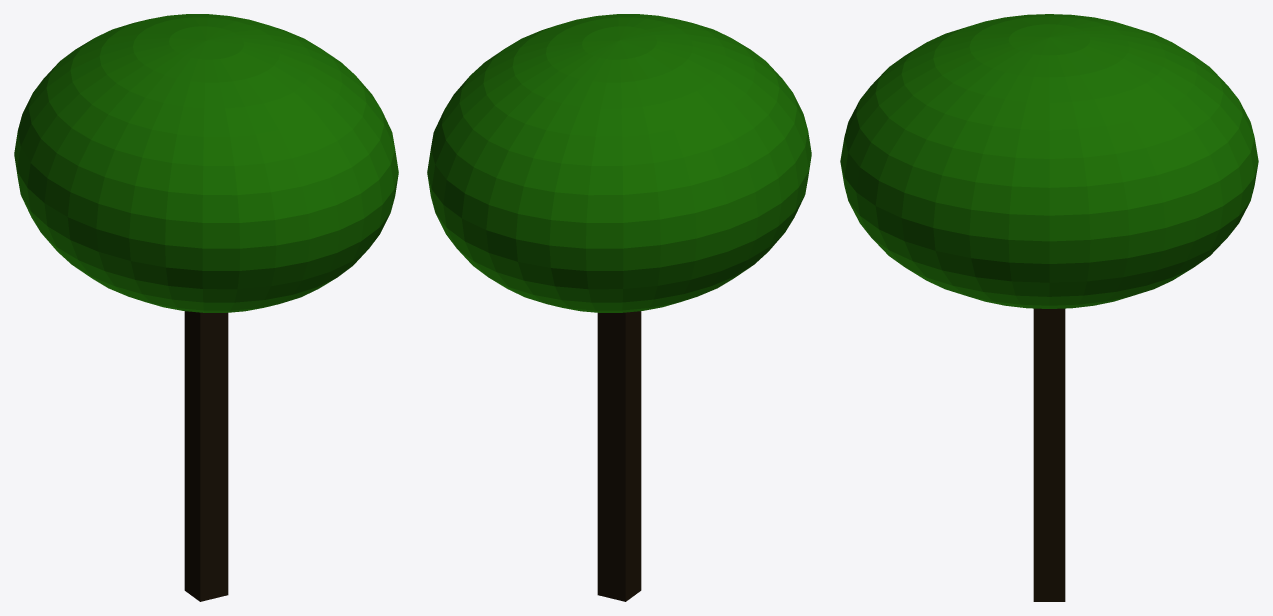
File: arbol.fbx
3 renders of one model, left to right at view 1: azimuth 30°, elevation 25°; view 2: azimuth 150°, elevation 25°; view 3: azimuth 270°, elevation 25°, orthographic.
Visible parts, largest first — view 1: Esfera, Cube; view 2: Esfera, Cube; view 3: Esfera, Cube.
Boxes of the visible parts, x1,y1,x2,y2 form: Esfera: [14, 14, 398, 312]; Cube: [184, 311, 228, 601]; Esfera: [427, 14, 811, 312]; Cube: [597, 311, 641, 601]; Esfera: [840, 14, 1258, 308]; Cube: [1033, 308, 1065, 601].
Bounding box in the file's own units: 4889 × 7957 × 5411.
